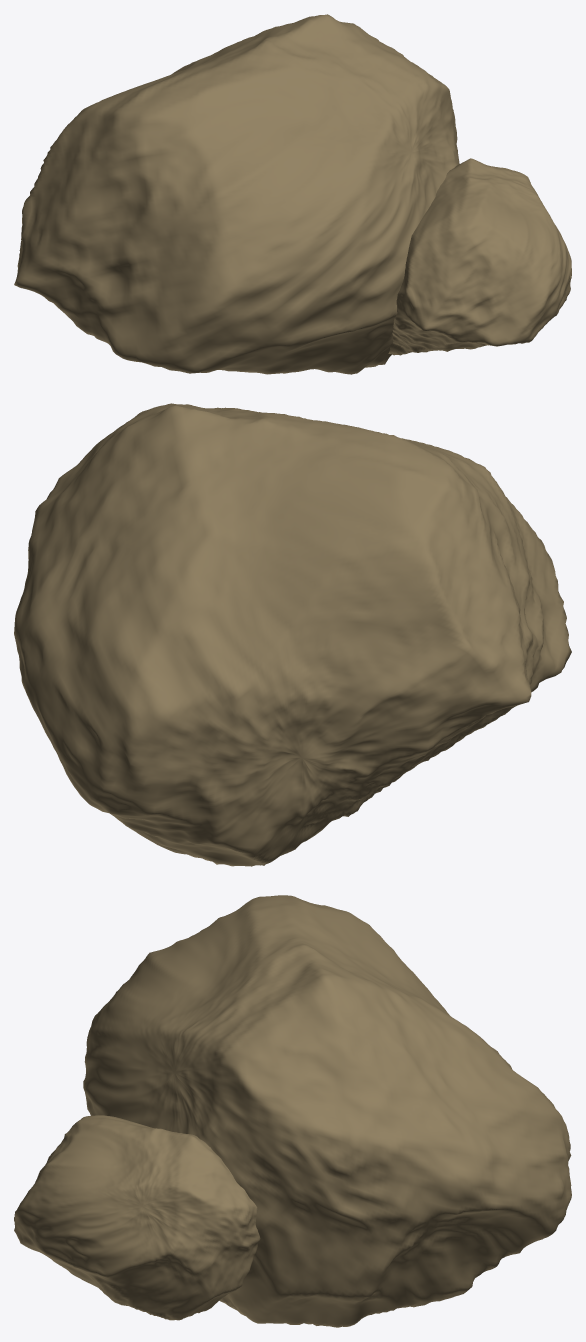
File: newrock3.fbx
3 renders of one model, top to bottom at view 1: azimuth 30°, elevation 25°; view 2: azimuth 150°, elevation 25°; view 3: azimuth 270°, elevation 25°, orthographic. The views are drawn at different scales.
Parts seen in each view (by area): view 1: Landscape.002, Landscape.003; view 2: Landscape.002; view 3: Landscape.002, Landscape.003.
Part boxes in pixels (<box>): Landscape.002: <box>14,14,459,374</box>; Landscape.003: <box>388,158,571,355</box>; Landscape.002: <box>14,403,571,866</box>; Landscape.002: <box>83,895,571,1327</box>; Landscape.003: <box>14,1115,260,1320</box>.
Bounding box in the file's own units: 220 × 153 × 224.
